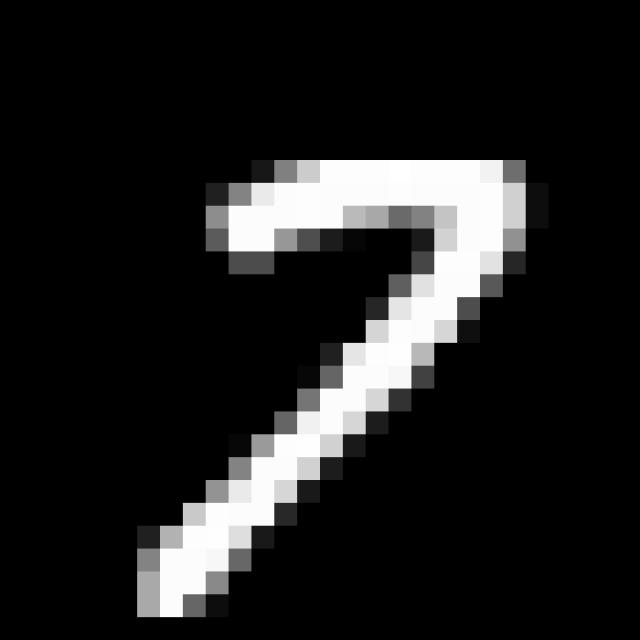seven -7-: (110, 146, 533, 640)
